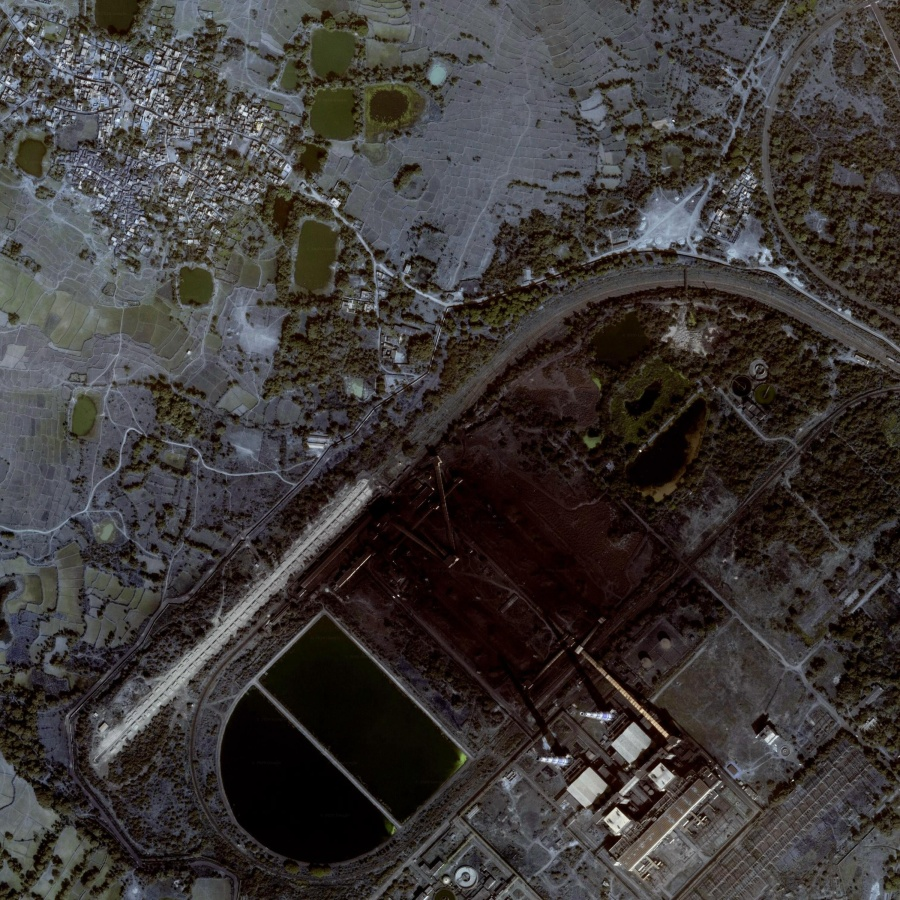PowerPlant: (203, 383, 714, 895)
